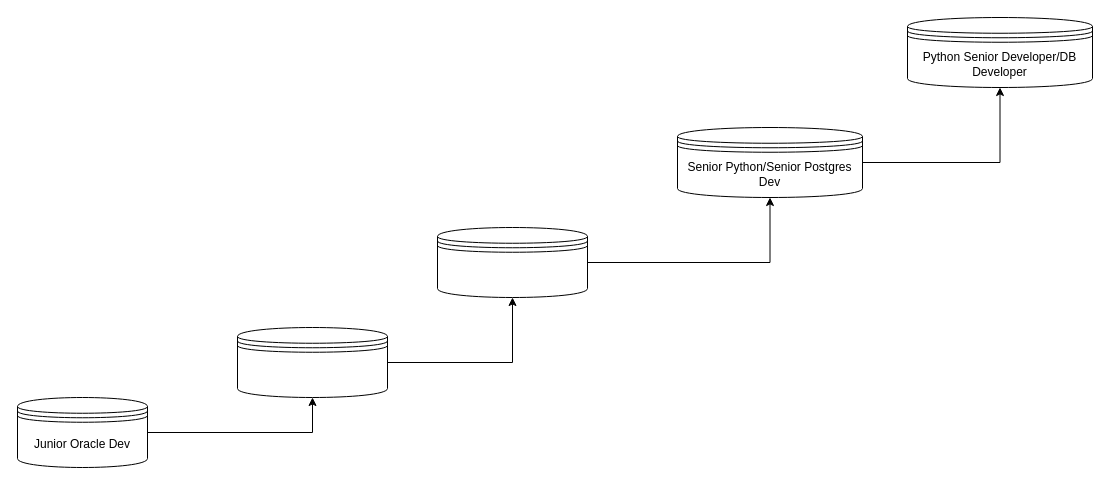
Some shapes in this 1110 by 485 pixel diagram are drawn without their labels. Each missing label, with the box of its shape:
Senior Oracle Developer/ Application Manager: (436, 226, 588, 298)
Senior Oracle Developer/PHP Backend Developer: (236, 326, 388, 398)
